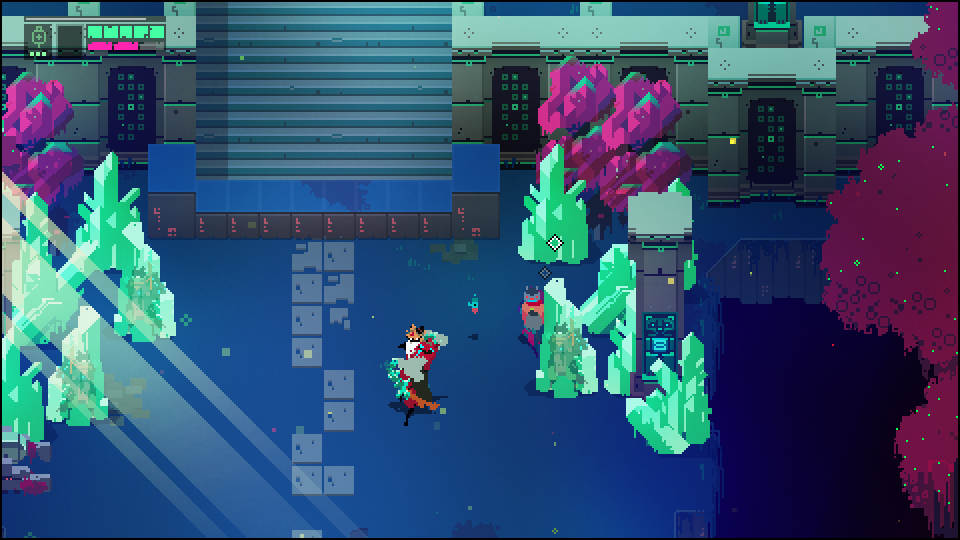hanged_man: (382, 323, 452, 416)
player: (518, 283, 544, 341)
